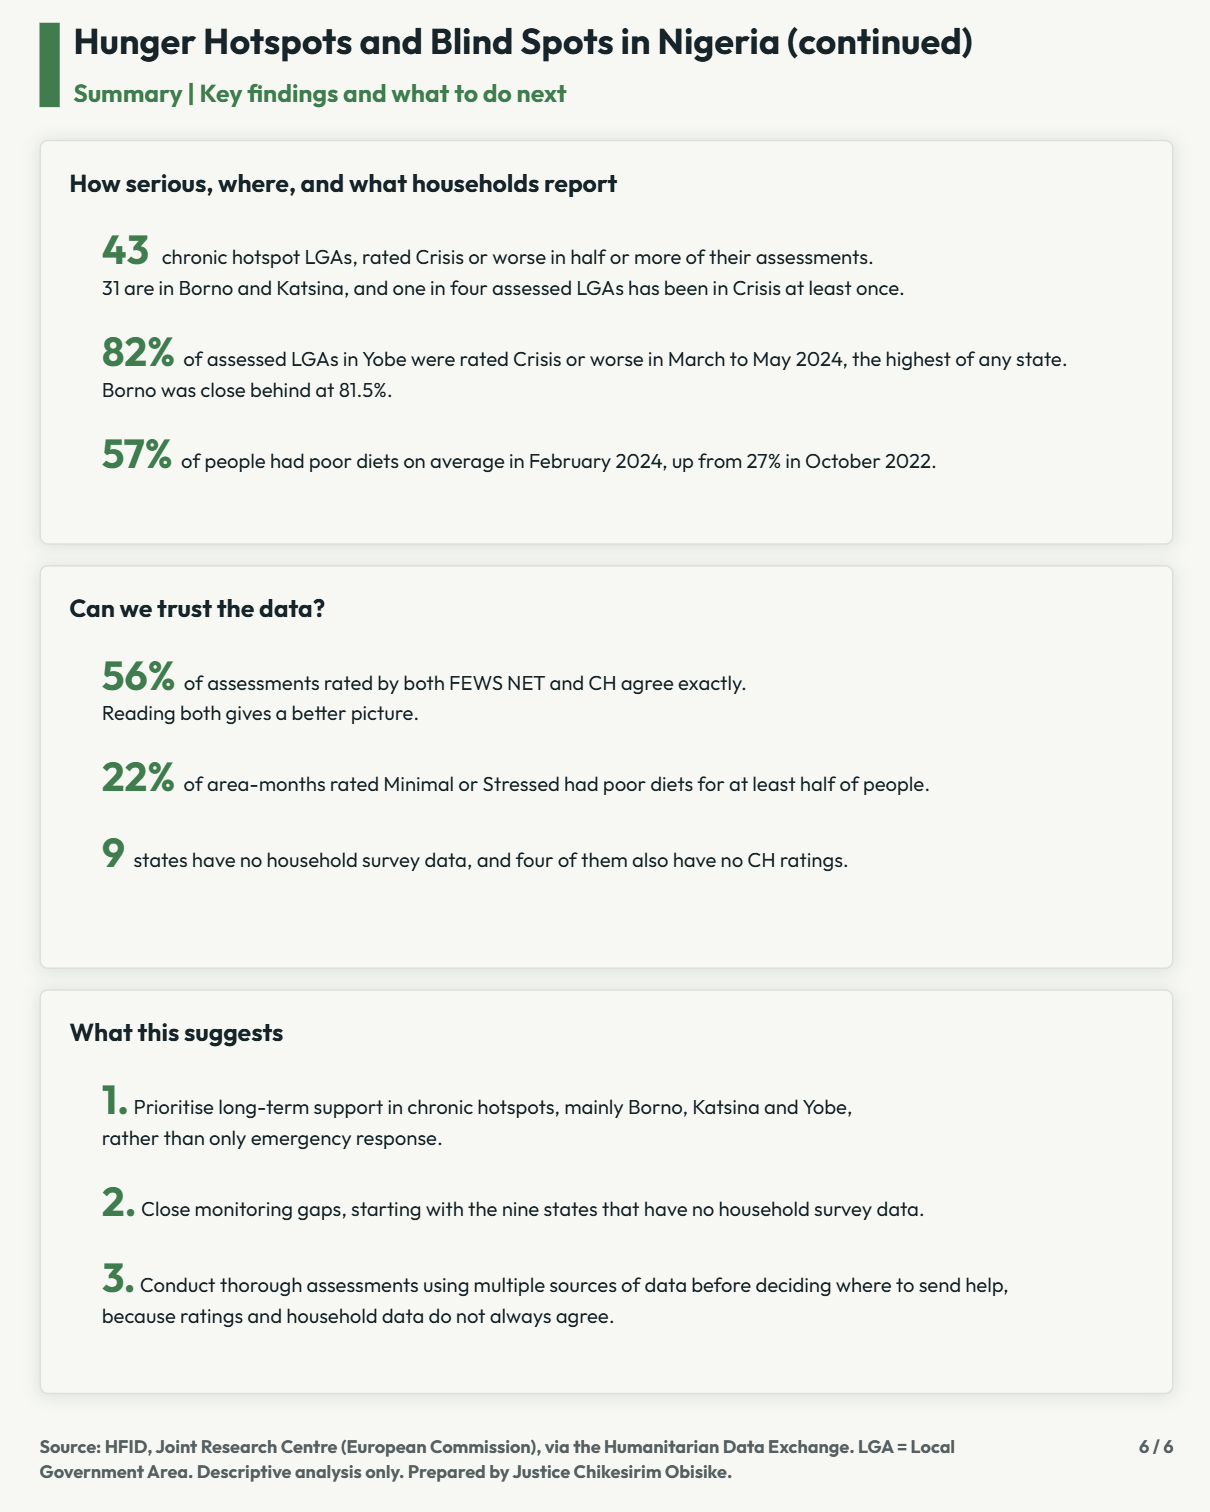

The dashboard page shown, as its layout file describes it:
{"tool":"powerbi","page":{"name":"6. Summary","canvas":[720,900],"ordinal":5},"visuals":[{"type":"shape","box":[24,15,12,50],"z":0},{"type":"textbox","box":[44,12,652,32],"z":1000},{"type":"textbox","box":[44,46,460,24],"z":2000},{"type":"textbox","box":[24,850,596,30],"z":3000},{"type":"textbox","box":[636,850,60,18],"z":4000},{"type":"textbox","box":[24,84,672,240],"z":4001},{"type":"textbox","box":[24,336,672,240],"z":4002},{"type":"textbox","box":[24,588,672,240],"z":4003}]}

Visuals, with their boxes in screenshot pixels (x1, y1, x2, y2), scaled from the page's 720x900 canvas onto the 1210x1512 screenshot:
shape: region(40, 25, 60, 109)
textbox: region(74, 20, 1170, 74)
textbox: region(74, 77, 847, 118)
textbox: region(40, 1428, 1042, 1478)
textbox: region(1069, 1428, 1170, 1458)
textbox: region(40, 141, 1170, 544)
textbox: region(40, 564, 1170, 968)
textbox: region(40, 988, 1170, 1391)
